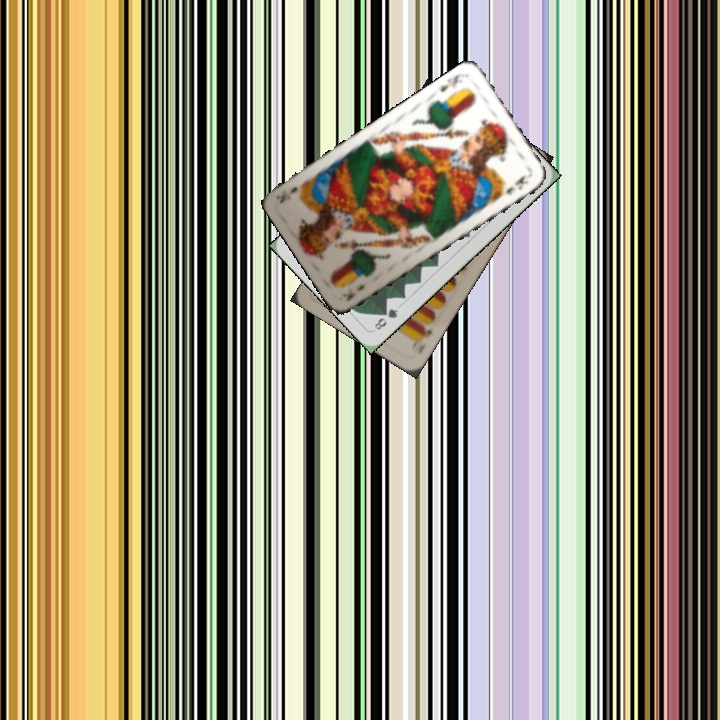E10: (416, 321, 435, 347)
EK: (436, 69, 467, 95), (340, 280, 367, 304)
G8: (370, 304, 401, 333)
